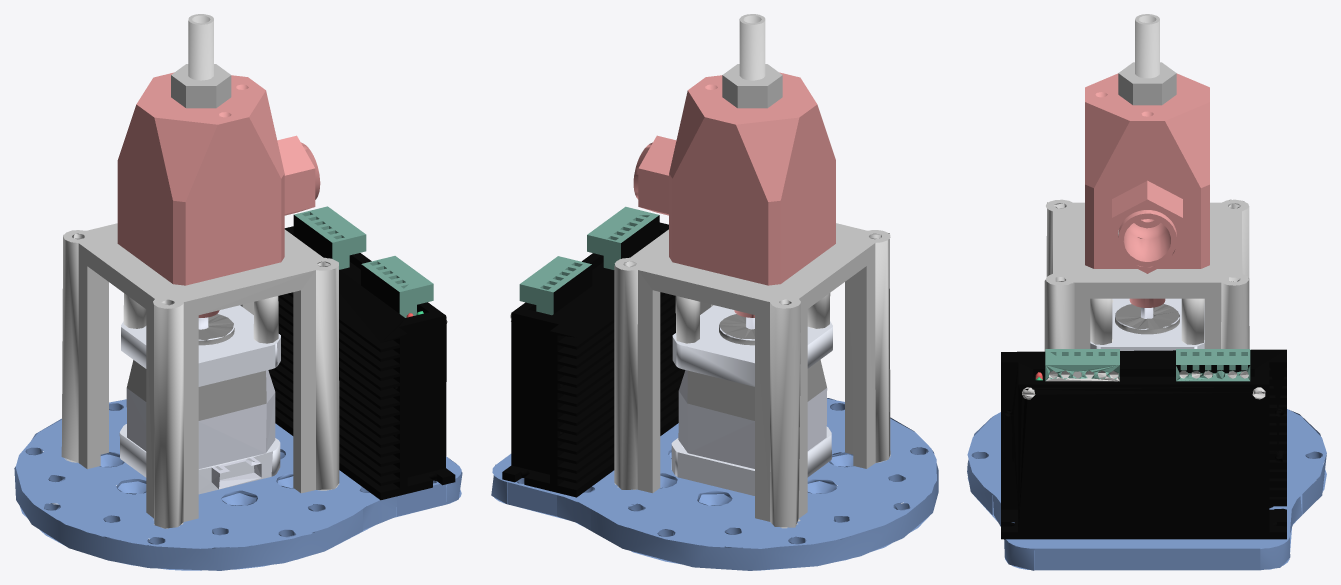
Rendered from extruder.dae.
3 renders of one model, left to right at view 1: azimuth 30°, elevation 25°; view 2: azimuth 150°, elevation 25°; view 3: azimuth 270°, elevation 25°, orthographic. The views are drawn at different scales.
Parts seen in each view (by area): view 1: Object.011; view 2: Object.011; view 3: Object.011.
Boxes of the visible parts, x1,y1,x2,y2 form: Object.011: (14,14,462,570); Object.011: (491,14,938,570); Object.011: (967,14,1326,570).
Size of the model in its own units: 0.1355 by 0.1212 by 0.175.
